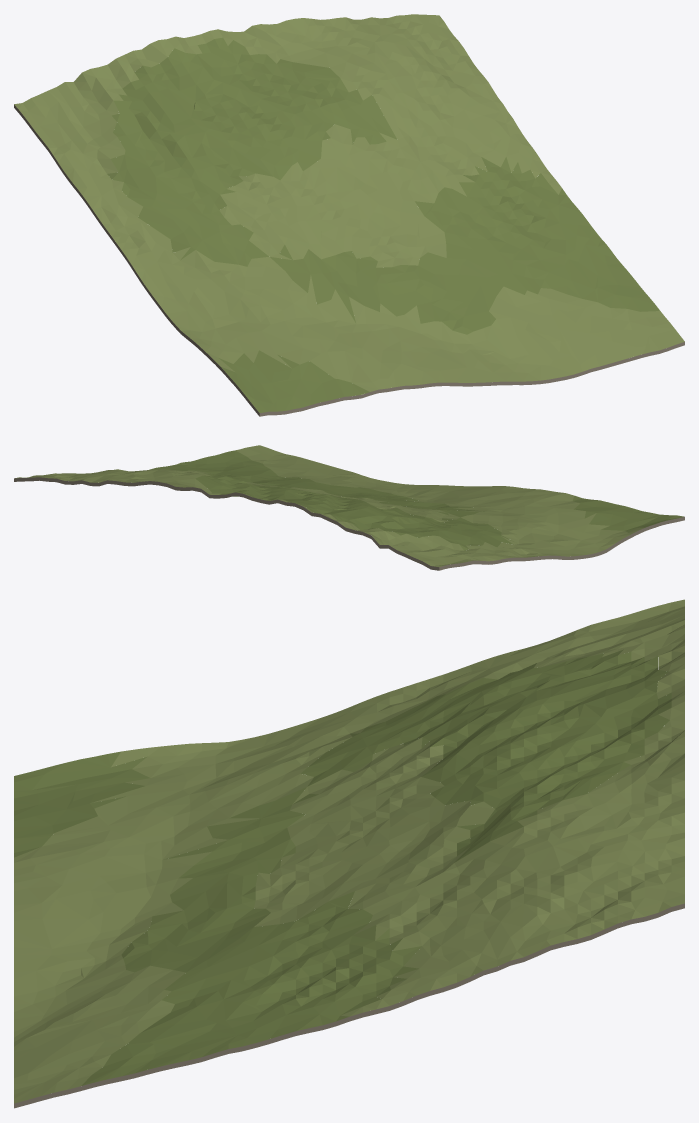
Rendered from parca_+6_-8-uzak.glb.
The picture shows the model from 3 angles, top to bottom: view 1: azimuth 30°, elevation 25°; view 2: azimuth 150°, elevation 25°; view 3: azimuth 270°, elevation 25°; orthographic projection. The views are drawn at different scales.
Parts seen in each view (by area): view 1: parca_+6_-8_arazi_uzak; view 2: parca_+6_-8_arazi_uzak; view 3: parca_+6_-8_arazi_uzak.
Boxes of the visible parts, x1,y1,x2,y2 form: parca_+6_-8_arazi_uzak: (14, 14, 684, 416); parca_+6_-8_arazi_uzak: (14, 445, 684, 570); parca_+6_-8_arazi_uzak: (14, 599, 684, 1108).
Bounding box in the file's own units: 1000 × 448 × 1000.
